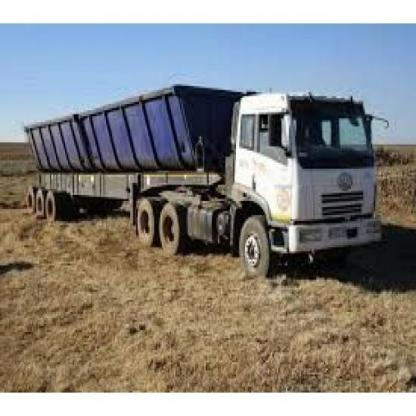dump_truck: (23, 81, 392, 280)
